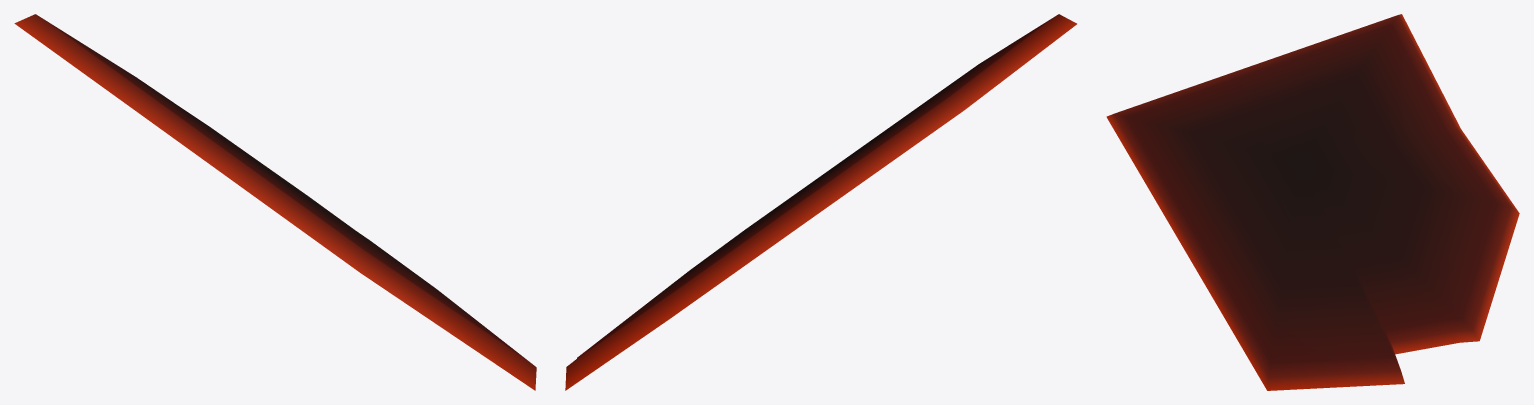
The model's file is raft_42.glb.
3 views of the same model, side by side, from view 1: azimuth 30°, elevation 25°; view 2: azimuth 150°, elevation 25°; view 3: azimuth 270°, elevation 25° (orthographic). The views are drawn at different scales.
Parts seen in each view (by area): view 1: raft; view 2: raft; view 3: raft.
Boxes of the visible parts, x1,y1,x2,y2 form: raft: (14,14,536,390); raft: (565,14,1076,390); raft: (1106,14,1519,390).
Size of the model in its own units: 1.08 by 0.9876 by 1.46.
